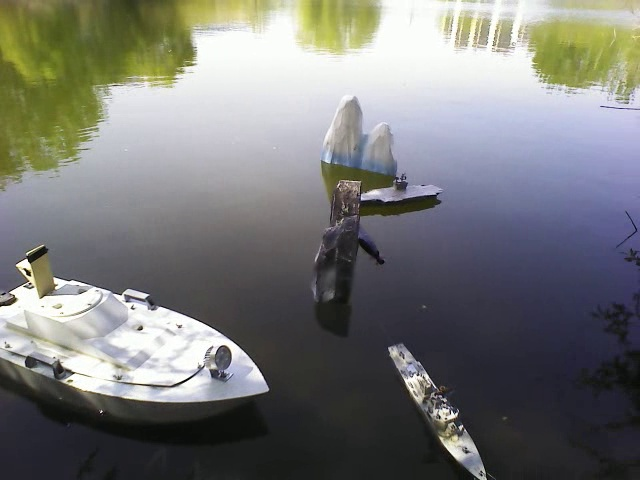aircraft_carrier: (364, 177, 446, 209)
boat: (5, 272, 273, 430)
iceberg: (316, 91, 403, 178)
rock: (308, 177, 365, 309)
submarine: (361, 222, 386, 267)
warship: (386, 341, 494, 477)
